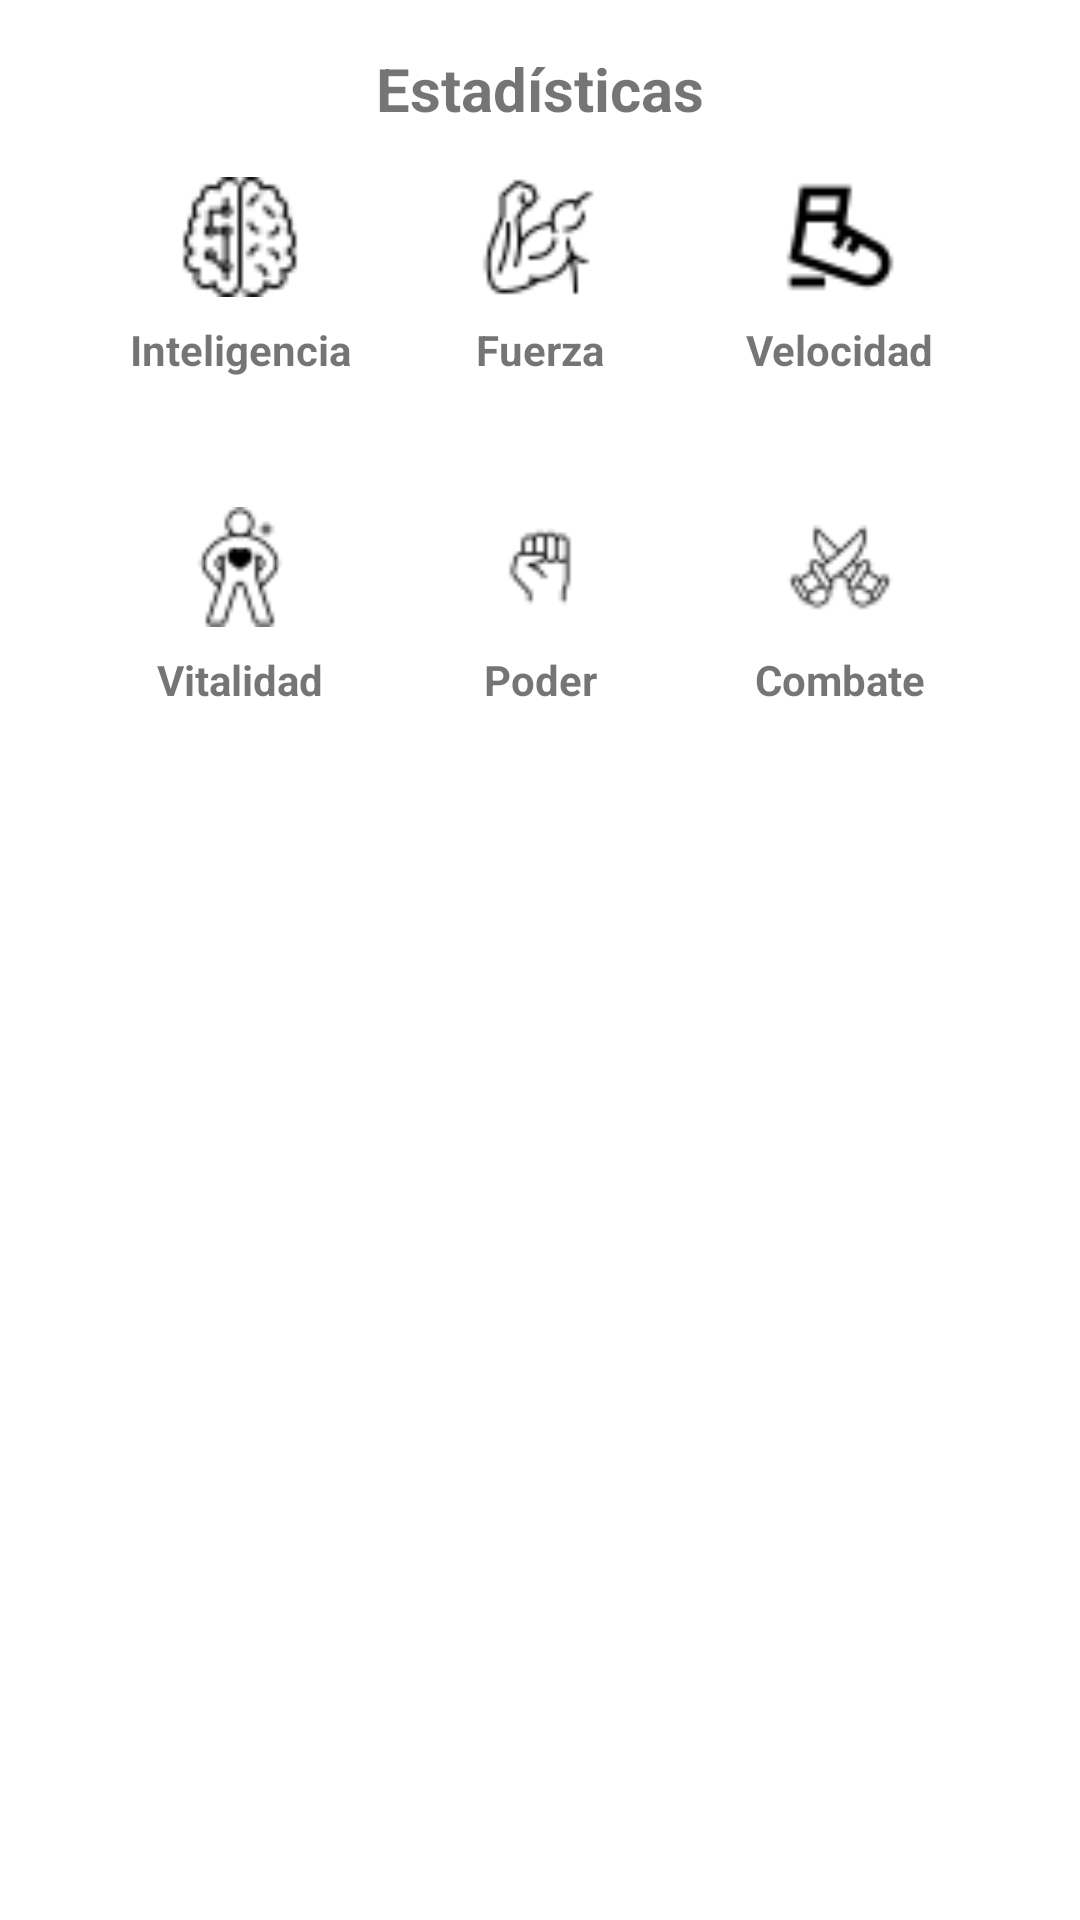

Locate icon controls on the screen. Image size 1080×1920, boxes as rect(x1, y1, x2, y2).
durability: rect(200, 507, 280, 627)
power: rect(509, 530, 571, 603)
